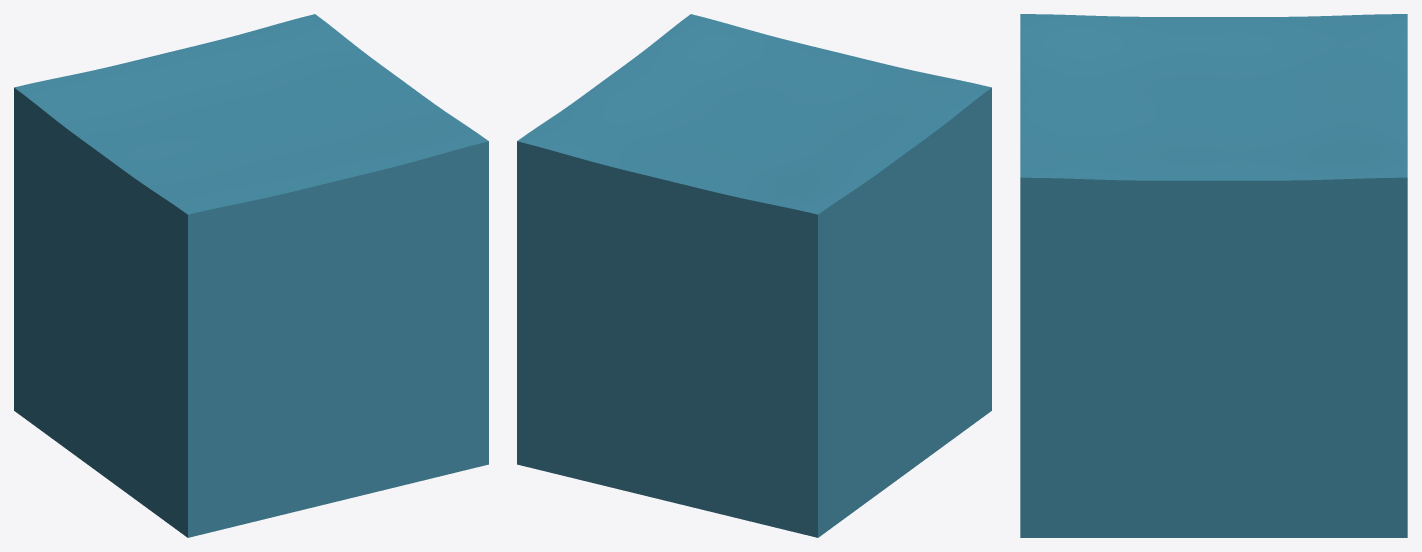
Rendered from slpool_wave36.glb.
The picture shows the model from 3 angles, left to right: view 1: azimuth 30°, elevation 25°; view 2: azimuth 150°, elevation 25°; view 3: azimuth 270°, elevation 25°; orthographic projection. The views are drawn at different scales.
Visible parts, largest first — view 1: poolWater; view 2: poolWater; view 3: poolWater.
Boxes of the visible parts, box(x1,y1,x2,y2) form: poolWater: box(14, 14, 488, 537); poolWater: box(517, 14, 991, 537); poolWater: box(1020, 14, 1407, 537).
Size of the model in its own units: 2 by 2.05 by 2.
